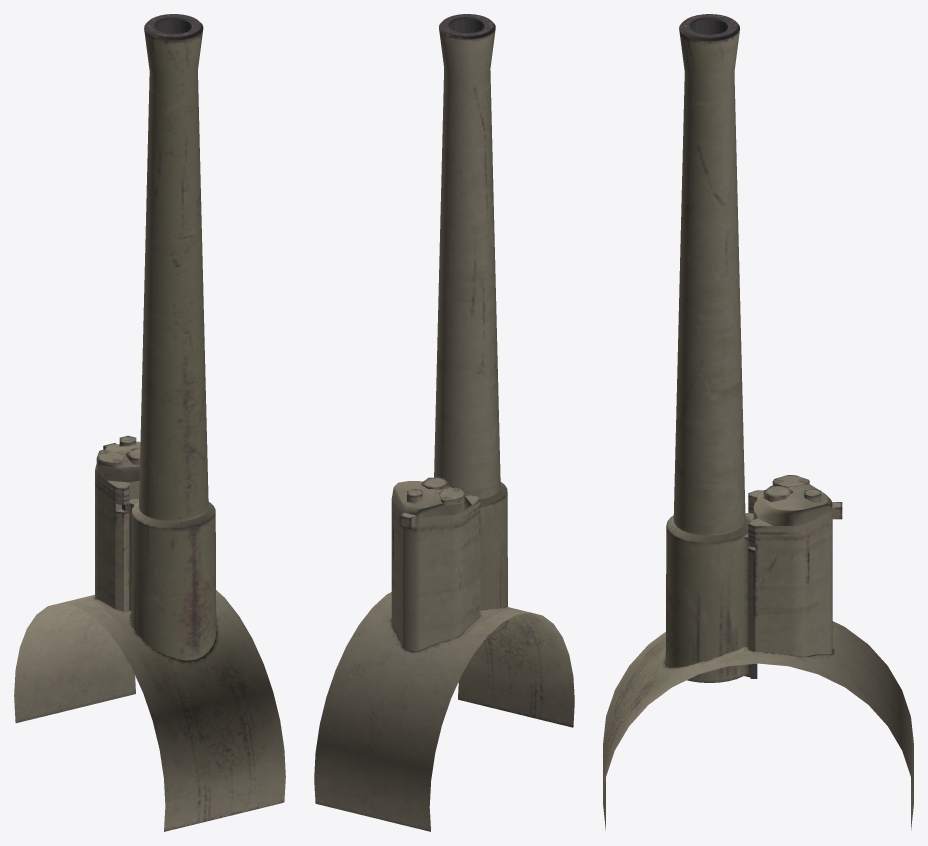
The model's file is Gun_02.glb.
3 views of the same model, side by side, from view 1: azimuth 30°, elevation 25°; view 2: azimuth 150°, elevation 25°; view 3: azimuth 270°, elevation 25° (orthographic). The views are drawn at different scales.
Parts seen in each view (by area): view 1: set_0_group_0; view 2: set_0_group_0; view 3: set_0_group_0.
Part boxes in pixels (x1,y1,x2,y2): set_0_group_0: [14, 14, 285, 831]; set_0_group_0: [314, 14, 574, 831]; set_0_group_0: [603, 14, 913, 829].
Size of the model in its own units: 0.5842 by 3.5 by 1.27.
Materials: 1 (1 with a texture image).
